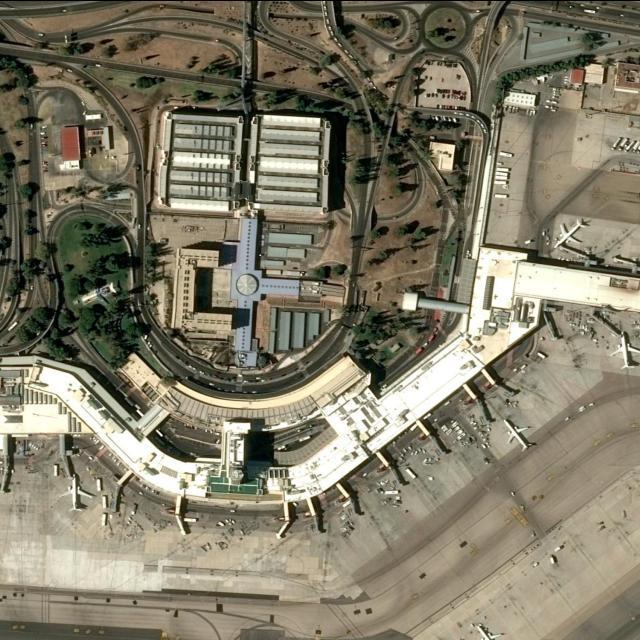Aircraft: (550, 213, 590, 249), (608, 330, 640, 372), (503, 415, 535, 450), (475, 623, 507, 640)
